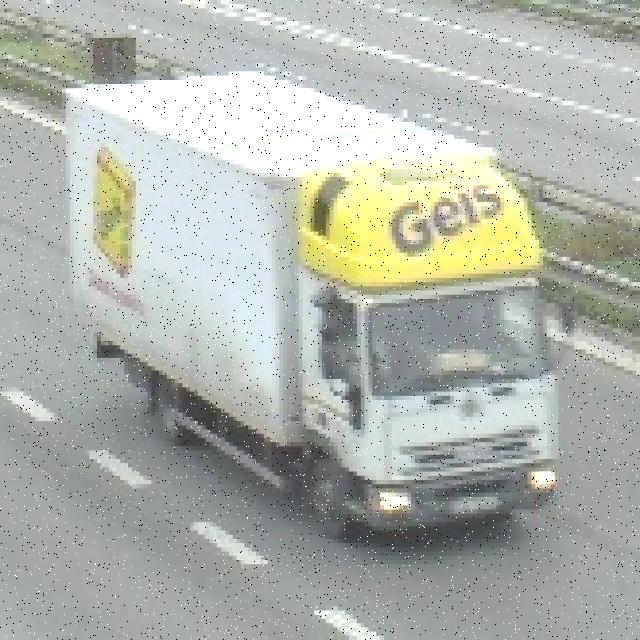truck: (70, 59, 578, 535)
